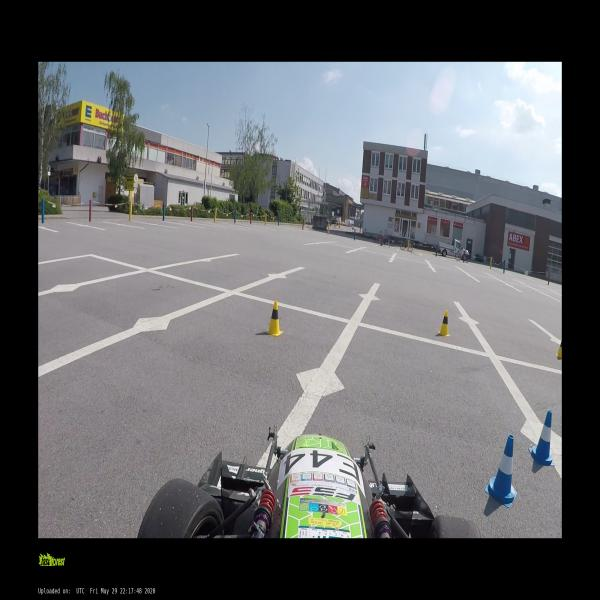blue_cone: (489, 434, 517, 507), (532, 410, 553, 464)
yellow_cone: (264, 301, 282, 336), (438, 310, 450, 337), (555, 334, 562, 359)
